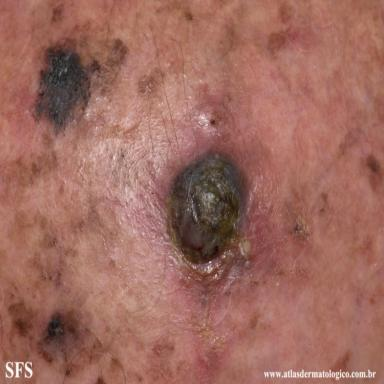Melanoma: (31, 35, 131, 137), (36, 306, 89, 365)
